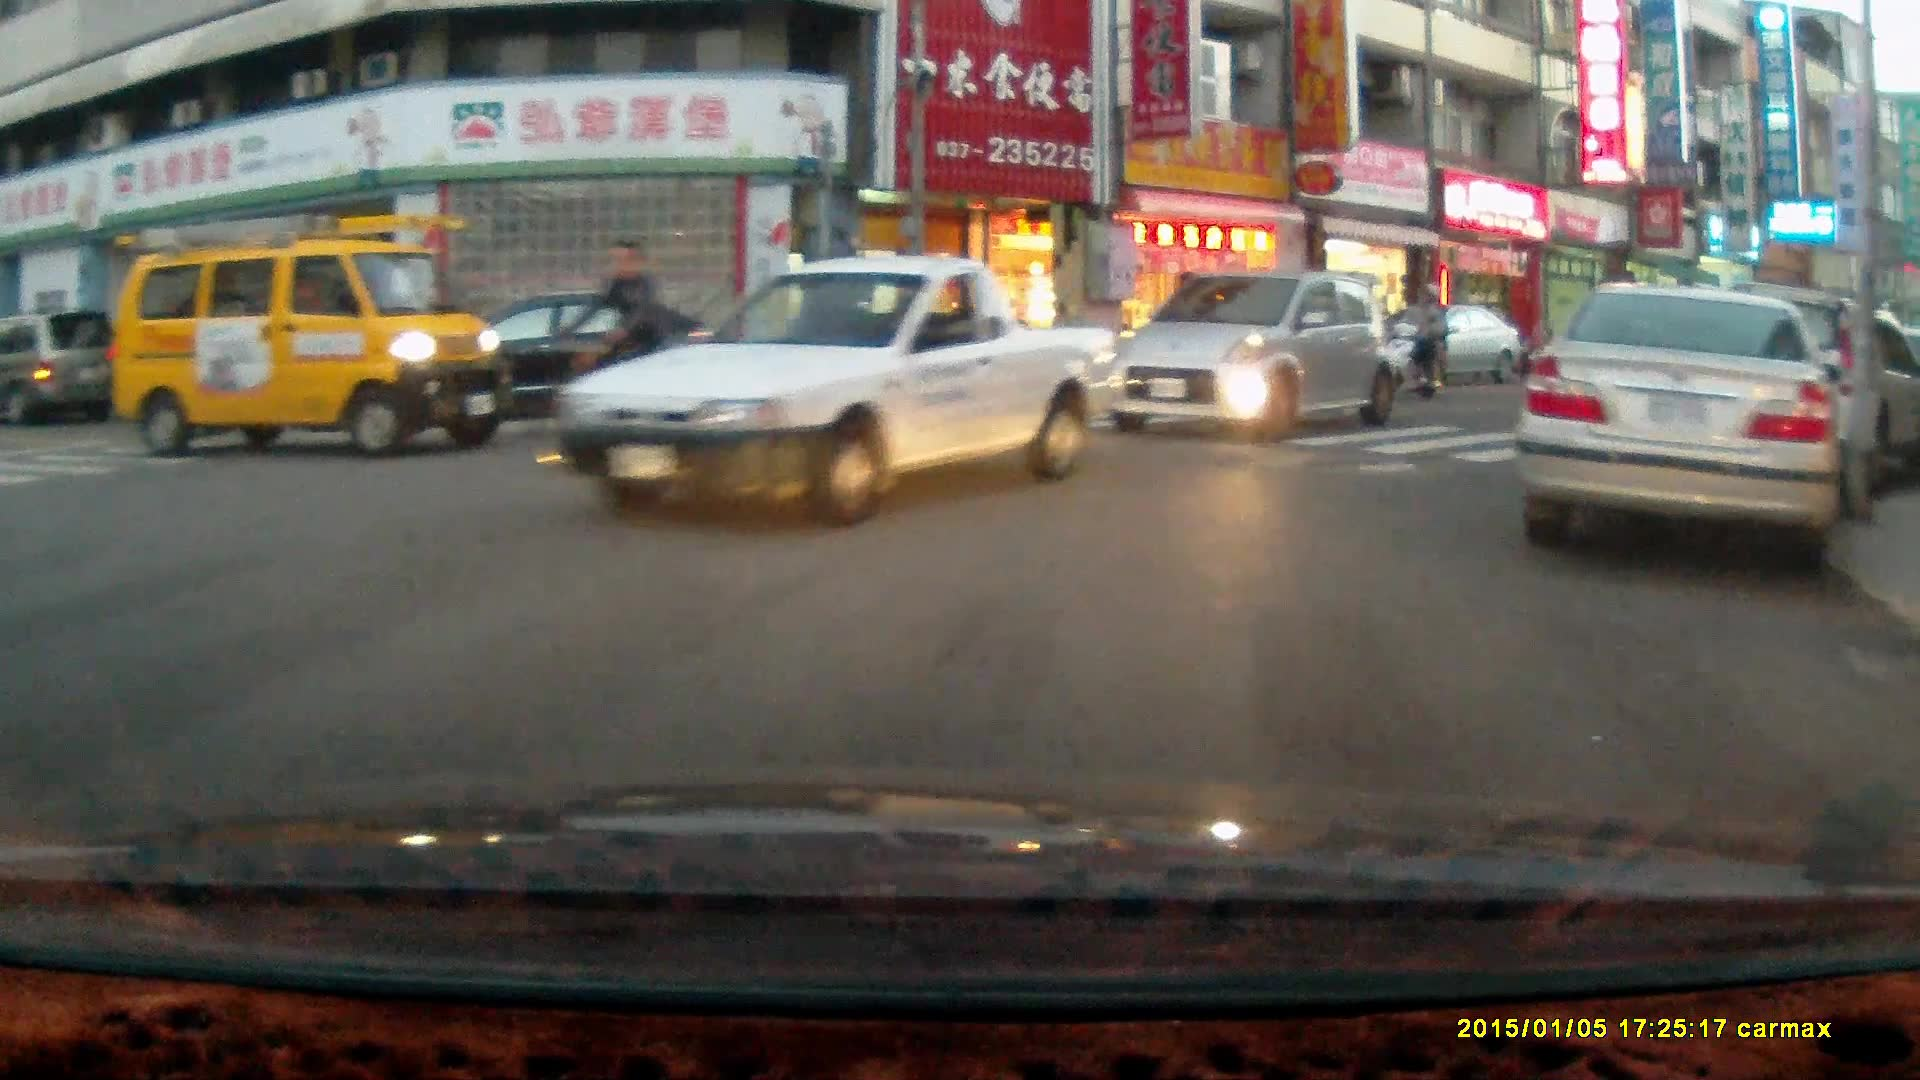rider: (524, 238, 699, 469), (1381, 276, 1447, 401)
vehicle: (551, 249, 1120, 527), (1515, 279, 1852, 588), (106, 211, 507, 461), (1657, 291, 1920, 502), (1101, 269, 1399, 439), (424, 288, 731, 417), (1, 306, 129, 425), (1390, 304, 1521, 383)
